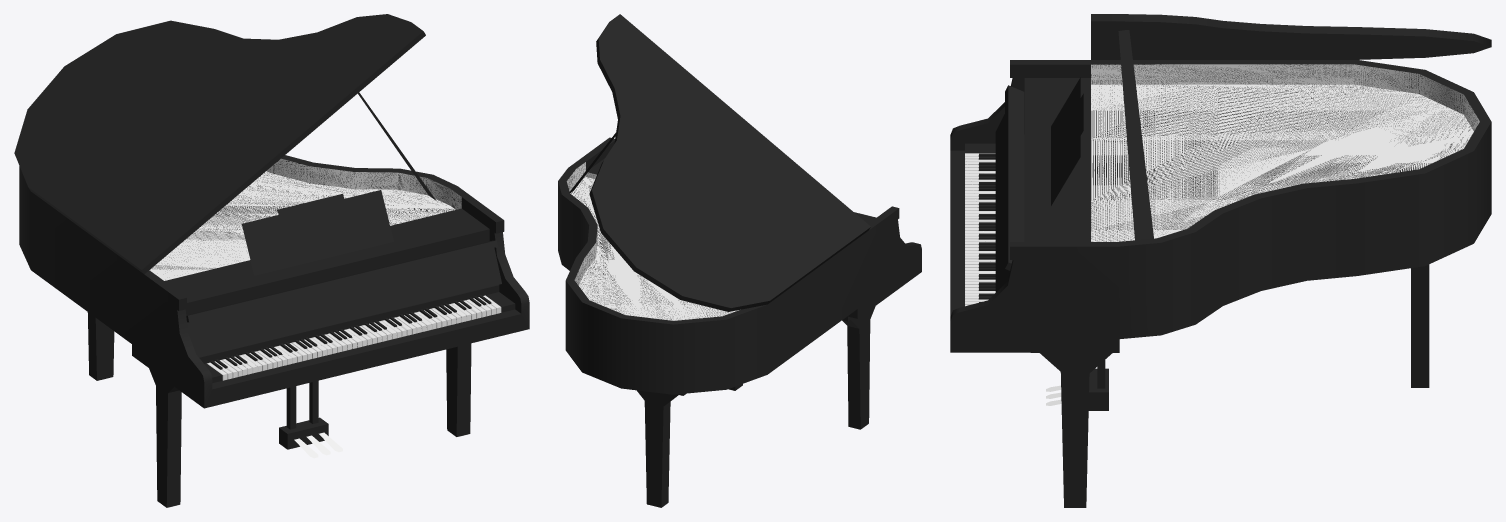
The picture shows the model from 3 angles, left to right: view 1: azimuth 30°, elevation 25°; view 2: azimuth 150°, elevation 25°; view 3: azimuth 270°, elevation 25°; orthographic projection. The views are drawn at different scales.
Parts seen in each view (by area): view 1: Music_Piano_Grand (×4), group_0, group_1, leg (×3), keys; view 2: group_0, Music_Piano_Grand (×2), leg (×2); view 3: Music_Piano_Grand (×4), group_0 (×2), leg (×2), group_1, keys.
Boxes of the visible parts, <box> form: Music_Piano_Grand (×4): <box>19,155,529,449</box>; group_0: <box>14,14,425,274</box>; group_1: <box>186,240,501,357</box>; leg (×3): <box>87,312,471,507</box>; keys: <box>207,295,501,380</box>; group_0: <box>589,14,870,311</box>; Music_Piano_Grand (×2): <box>558,137,921,394</box>; leg (×2): <box>637,306,875,507</box>; Music_Piano_Grand (×4): <box>950,60,1491,410</box>; group_0 (×2): <box>1091,14,1491,240</box>; leg (×2): <box>1031,264,1429,507</box>; group_1: <box>995,85,1024,292</box>; keys: <box>965,153,995,306</box>.
Size of the model in its own units: 59.95 by 72.83 by 70.35.
